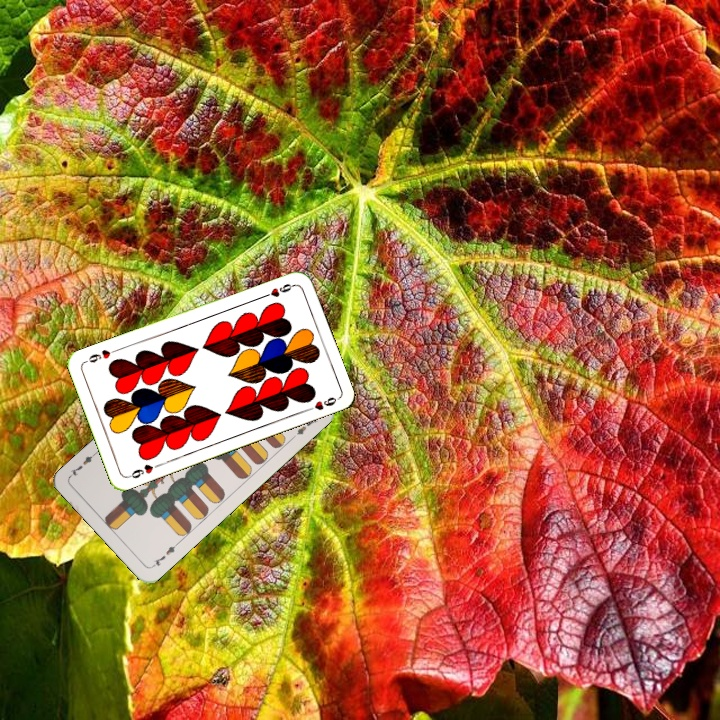E7: (148, 539, 181, 570)
H9: (258, 279, 297, 301), (124, 460, 163, 481)
